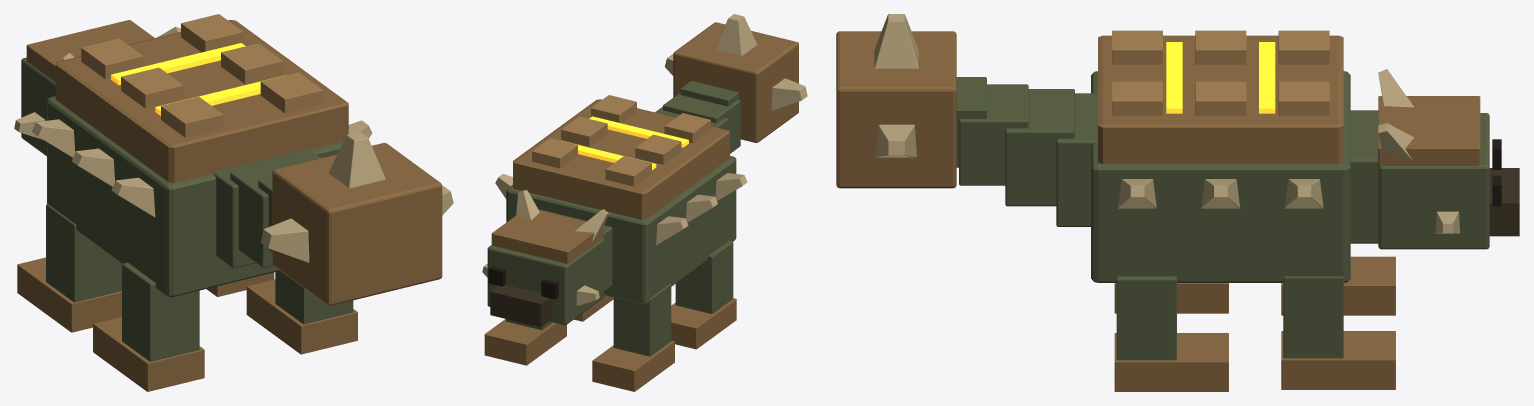
Rendered from ankylosaurus.glb.
3 renders of one model, left to right at view 1: azimuth 30°, elevation 25°; view 2: azimuth 150°, elevation 25°; view 3: azimuth 270°, elevation 25°, orthographic. The views are drawn at different scales.
Parts seen in each view (by area): view 1: body, tail, leg.BR, leg.FR, leg.BL, head, leg.FL; view 2: body, tail, head, leg.FR, leg.BR, leg.FL, leg.BL; view 3: body, tail, head, leg.BL, leg.FL, leg.FR, leg.BR.
Part boxes in pixels (x1,y1,x2,y2): body: (32, 14, 372, 297); tail: (213, 131, 453, 305); leg.BR: (93, 262, 204, 391); leg.FR: (17, 204, 121, 332); leg.BL: (246, 271, 357, 354); head: (14, 20, 180, 156); leg.FL: (206, 272, 274, 296); body: (495, 95, 747, 304); tail: (655, 14, 807, 153); head: (482, 190, 608, 327); leg.FR: (592, 284, 674, 391); leg.BR: (671, 240, 736, 349); leg.FL: (484, 319, 566, 365); leg.BL: (574, 295, 613, 321); body: (1091, 30, 1378, 282); tail: (836, 14, 1097, 226); head: (1378, 69, 1519, 249); leg.BL: (1114, 276, 1228, 391); leg.FL: (1281, 276, 1395, 389); leg.FR: (1281, 256, 1395, 315); leg.BR: (1114, 283, 1228, 313).
Size of the model in its own units: 0.868 by 1 by 1.93.
